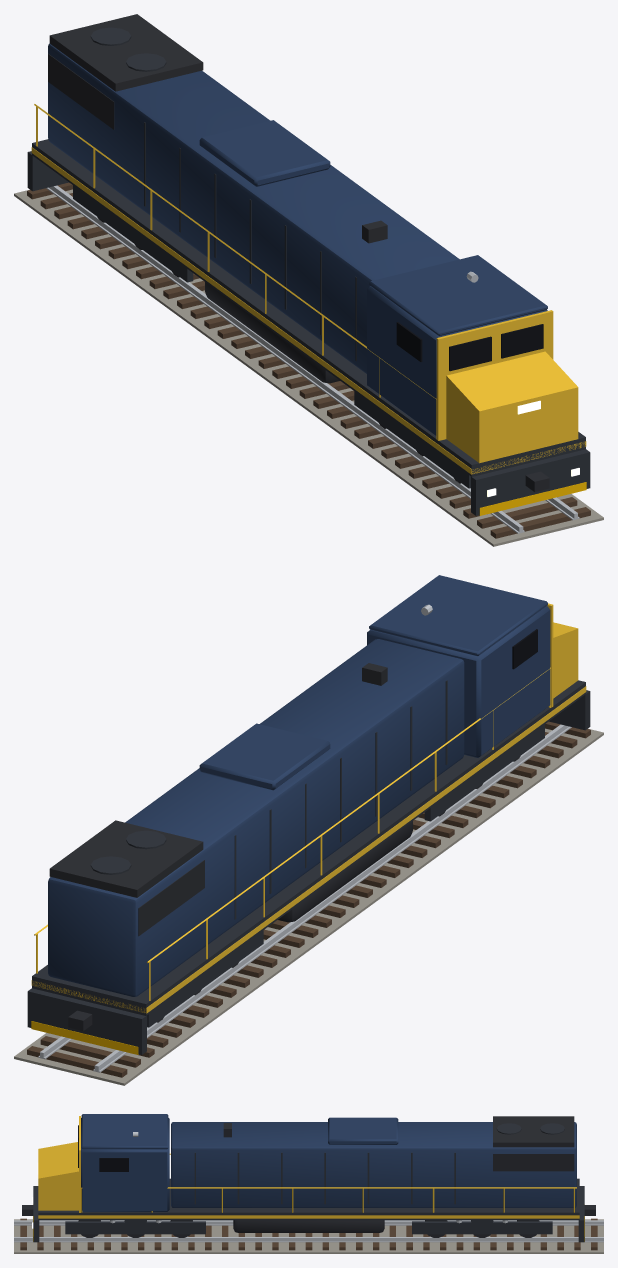
The model's file is freight_train.glb.
The picture shows the model from 3 angles, top to bottom: view 1: azimuth 30°, elevation 25°; view 2: azimuth 150°, elevation 25°; view 3: azimuth 270°, elevation 25°; orthographic projection. The views are drawn at different scales.
Parts seen in each view (by area): view 1: body; view 2: body; view 3: body.
Boxes of the visible parts, x1=… form: body: x1=14, y1=14, x2=603, y2=546; body: x1=14, y1=575, x2=603, y2=1085; body: x1=14, y1=1114, x2=603, y2=1253.
Size of the model in its own units: 308 by 457 by 2180.
